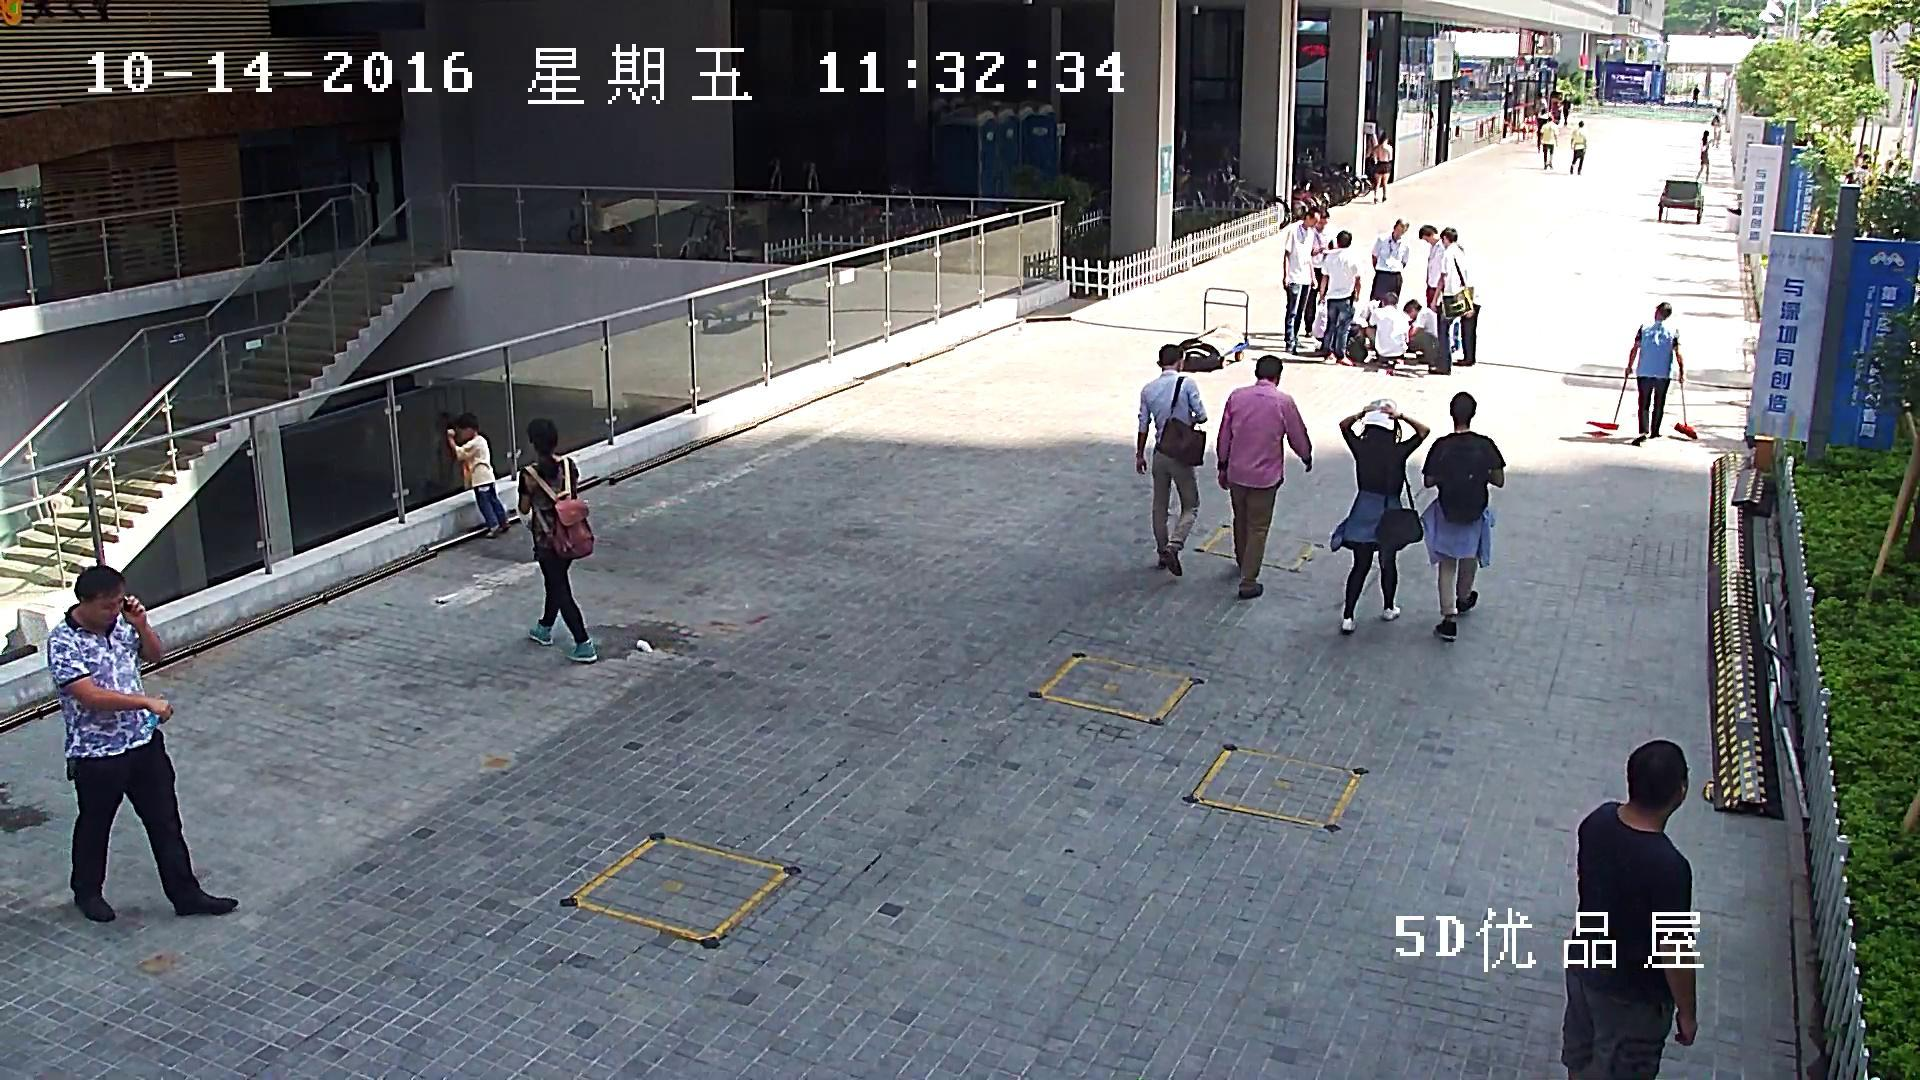person: (46, 564, 239, 923), (1560, 738, 1698, 1080), (1215, 354, 1312, 600), (1329, 398, 1431, 633), (1420, 390, 1506, 641), (515, 417, 597, 663), (1134, 343, 1208, 577), (1585, 301, 1699, 448), (1626, 301, 1685, 447), (446, 411, 512, 539), (1427, 226, 1474, 376), (1316, 229, 1360, 361), (1282, 208, 1319, 354), (1304, 209, 1333, 338), (1452, 244, 1481, 366), (1369, 217, 1409, 301), (1367, 291, 1407, 370), (1402, 298, 1437, 365), (1418, 223, 1445, 308), (1371, 133, 1393, 203), (1539, 114, 1557, 169), (1569, 119, 1588, 174), (1694, 129, 1713, 184), (1559, 93, 1571, 125), (1711, 114, 1721, 147)
